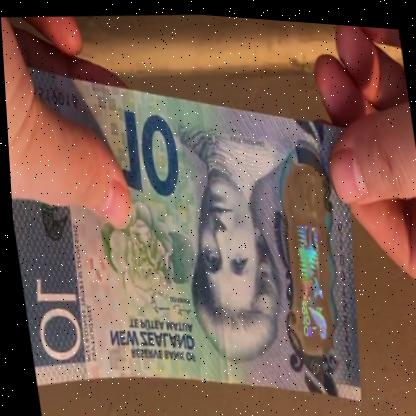10B: (272, 169, 339, 341)
